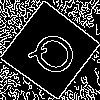Q: (25, 25, 89, 87)
